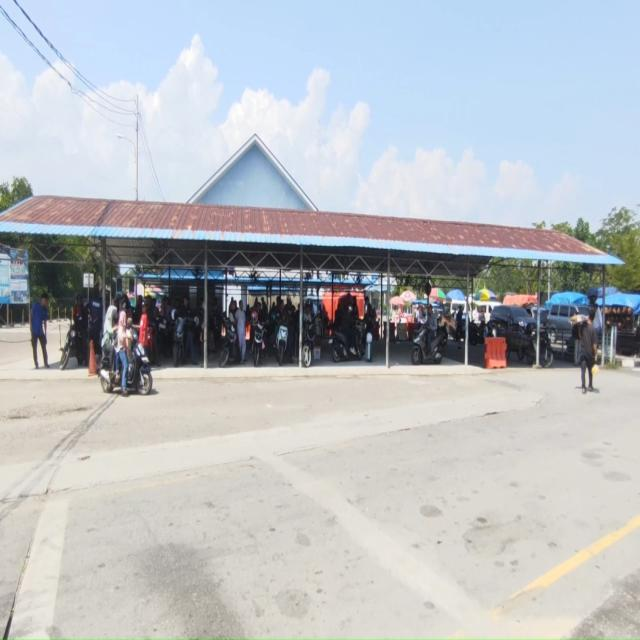Golongan II: (99, 332, 153, 395), (516, 325, 554, 368), (411, 324, 447, 365), (173, 316, 199, 367), (60, 323, 86, 370), (329, 330, 362, 362), (219, 317, 239, 367), (155, 316, 174, 358), (302, 320, 316, 368), (252, 321, 266, 366), (464, 321, 486, 346), (276, 324, 289, 366)
